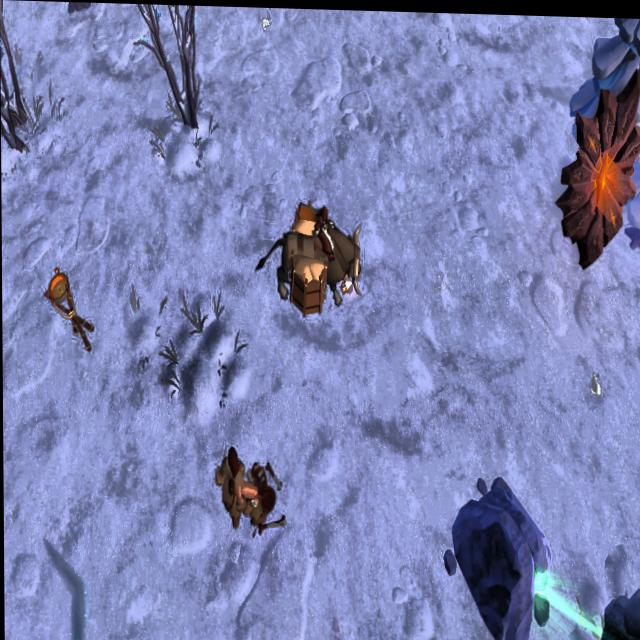enemy_factionKeeper: (214, 441, 268, 535)
